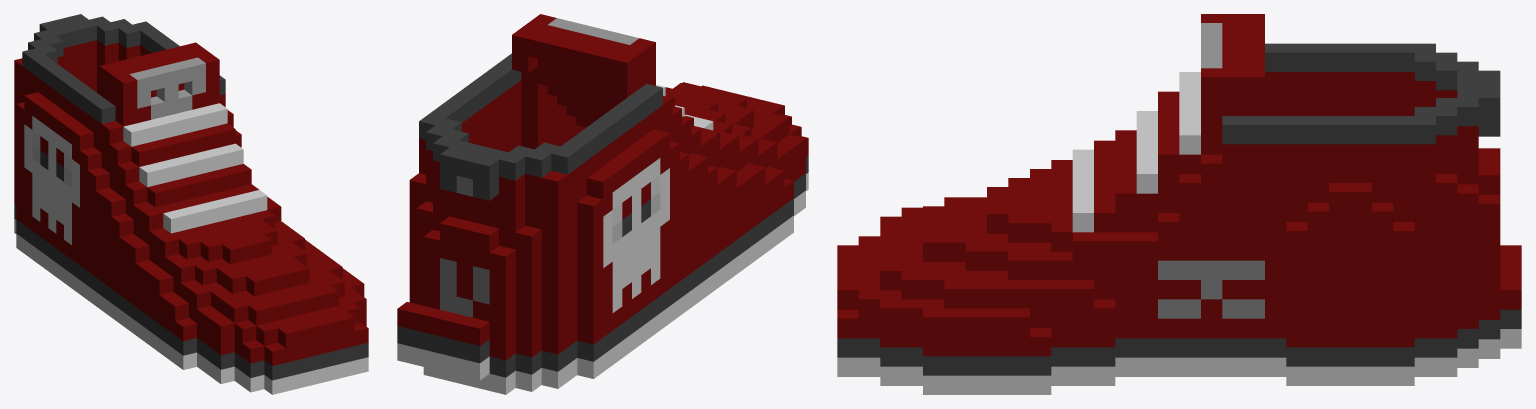
3 renders of one model, left to right at view 1: azimuth 30°, elevation 25°; view 2: azimuth 150°, elevation 25°; view 3: azimuth 270°, elevation 25°, orthographic. The views are drawn at different scales.
Size of the model in its own units: 0.6 by 0.75 by 1.6.
